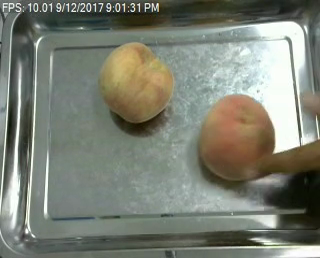Peach: (200, 92, 275, 181), (98, 40, 174, 122)
